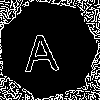A: (23, 24, 60, 72)
